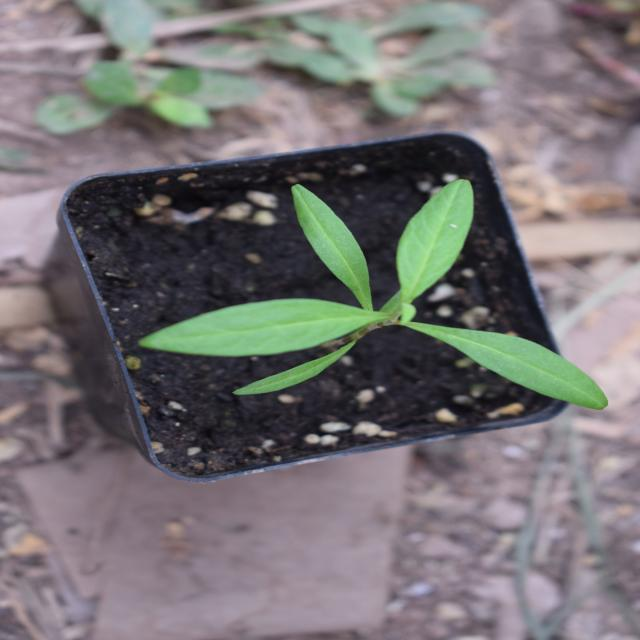white_smart_weed: (183, 33, 430, 470)
